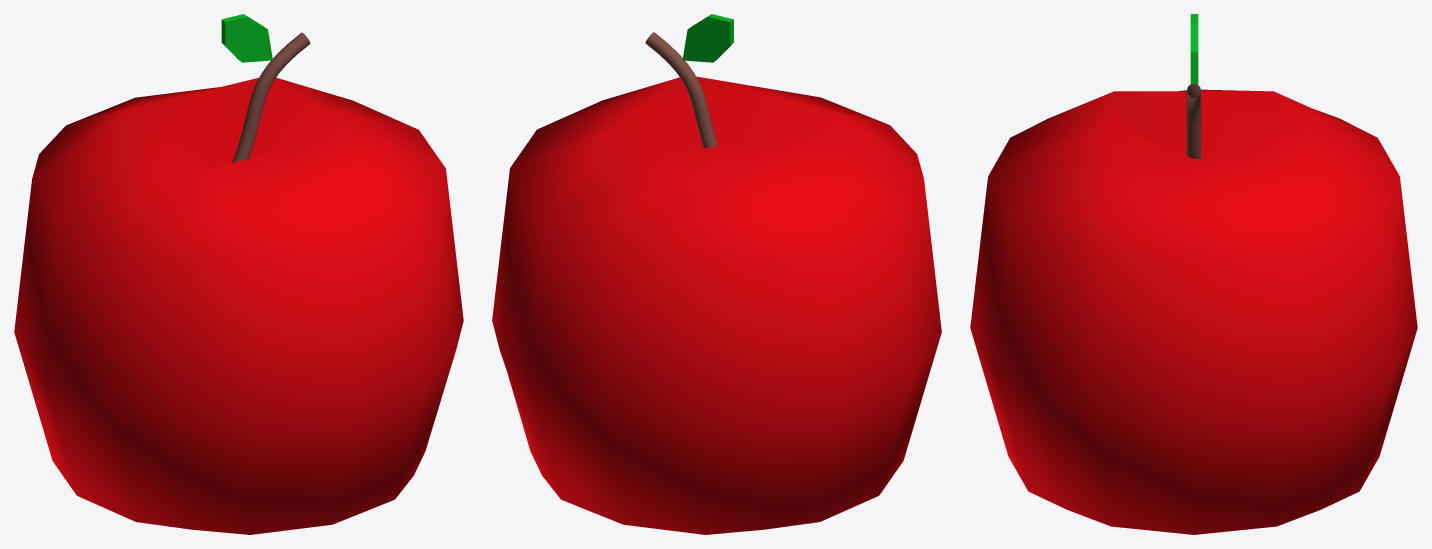
File: ringo01.fbx
3 renders of one model, left to right at view 1: azimuth 30°, elevation 25°; view 2: azimuth 150°, elevation 25°; view 3: azimuth 270°, elevation 25°, orthographic.
Visible parts, largest first — view 1: Base, Base.002, happa; view 2: Base, Base.002, happa; view 3: Base, Base.002, happa.
Part boxes in pixels (box(x1,y1,x2,y2)): Base: box(14, 77, 463, 534); Base.002: box(232, 32, 310, 162); happa: box(221, 14, 272, 62); Base: box(492, 76, 941, 534); Base.002: box(645, 32, 717, 147); happa: box(682, 14, 733, 62); Base: box(970, 89, 1417, 534); Base.002: box(1186, 83, 1201, 158); happa: box(1190, 14, 1198, 84).
Size of the model in its own units: 1.19 by 1.36 by 1.19.
